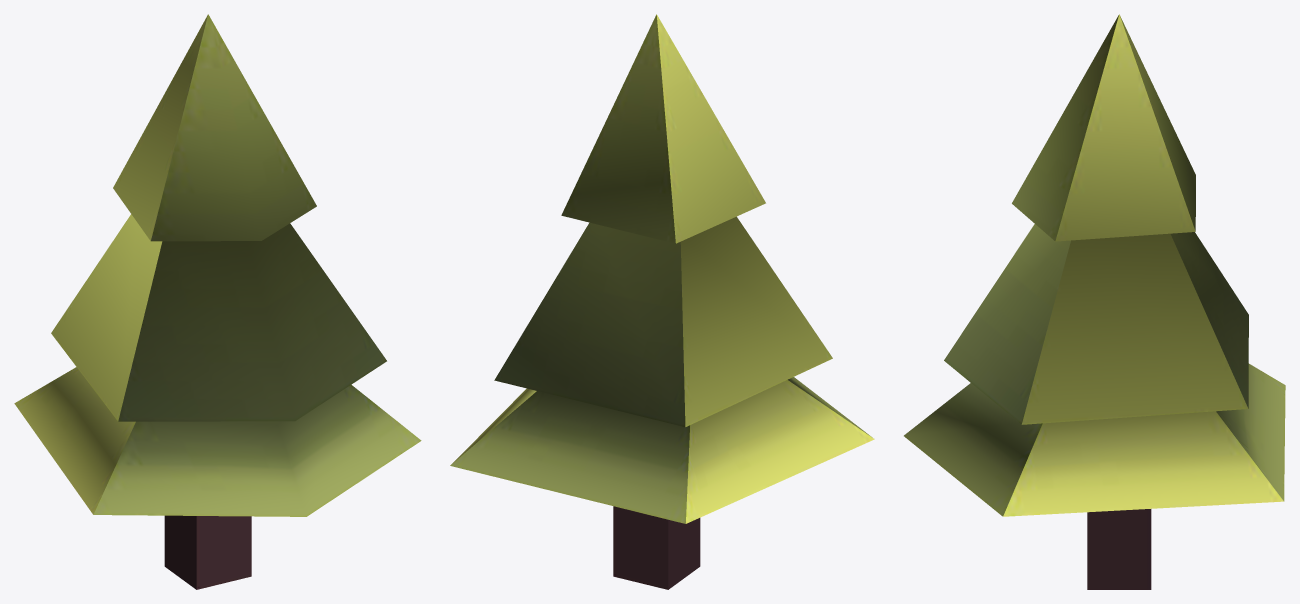
The model's file is tree01.FBX.
The picture shows the model from 3 angles, left to right: view 1: azimuth 30°, elevation 25°; view 2: azimuth 150°, elevation 25°; view 3: azimuth 270°, elevation 25°; orthographic projection.
Parts seen in each view (by area): view 1: Box021; view 2: Box021; view 3: Box021.
Boxes of the visible parts, x1,y1,x2,y2 form: Box021: [14, 14, 421, 589]; Box021: [450, 14, 874, 589]; Box021: [904, 14, 1285, 589].
Bounding box in the file's own units: 18.98 × 31.38 × 19.32.
